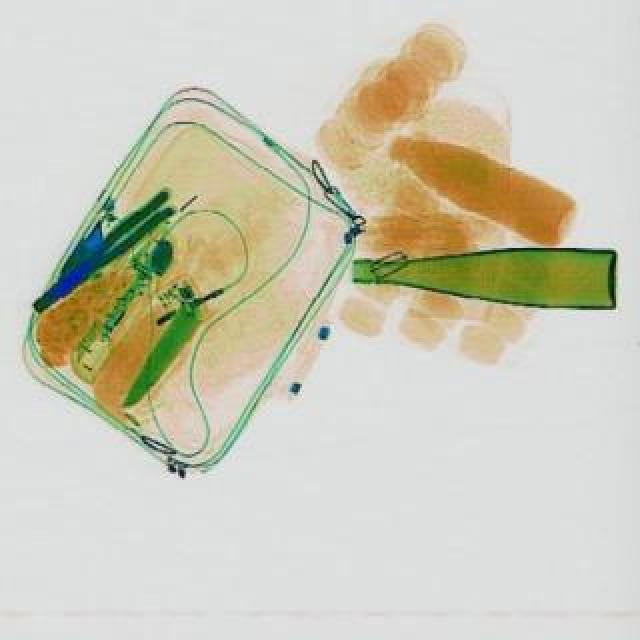wrench: (28, 186, 184, 316)
